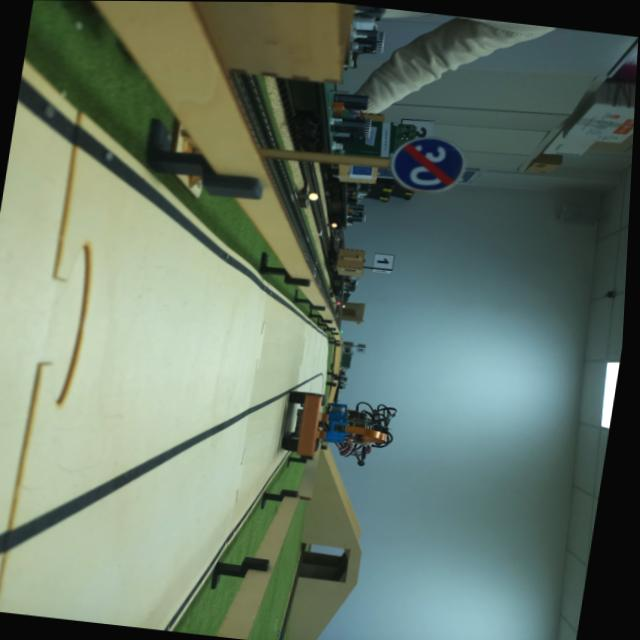obstacle_voiture: (275, 391, 396, 471)
panneau_fin30: (385, 133, 467, 197)
